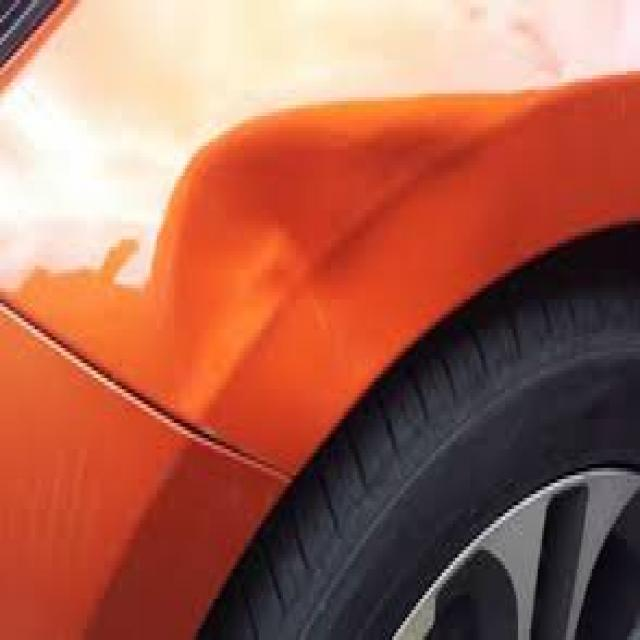minor: (145, 119, 388, 381)
